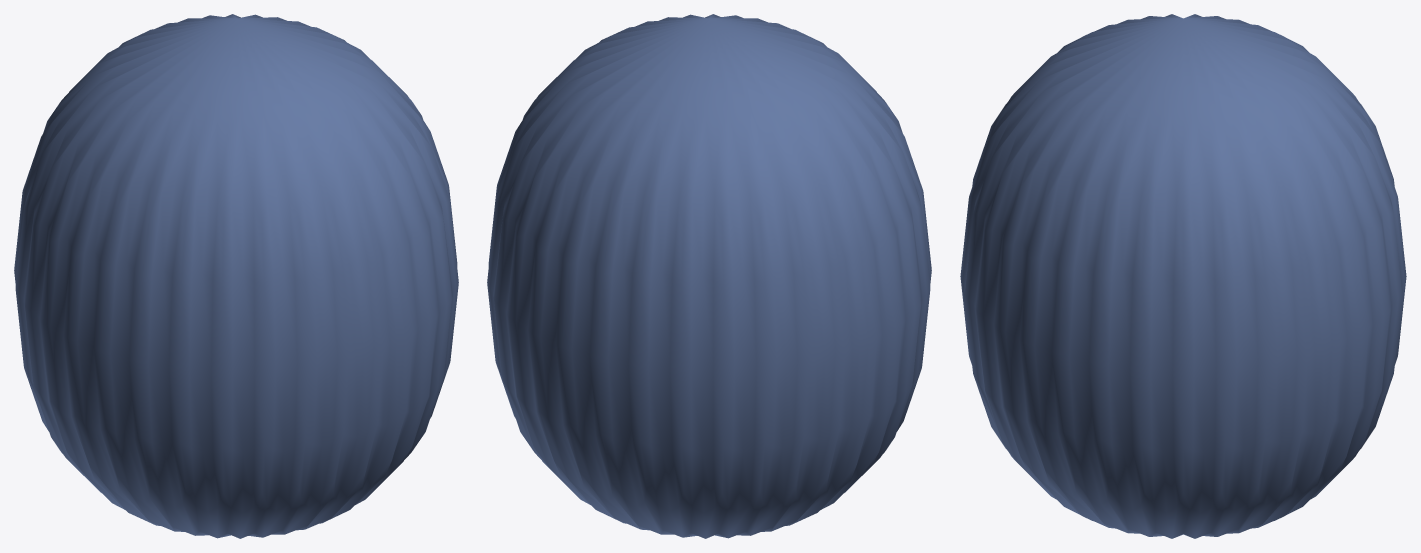
Rendered from outfit_sailor.glb.
3 views of the same model, side by side, from view 1: azimuth 30°, elevation 25°; view 2: azimuth 150°, elevation 25°; view 3: azimuth 270°, elevation 25° (orthographic).
Visible parts, largest first — view 1: Cylinder; view 2: Cylinder; view 3: Cylinder.
Boxes of the visible parts, box(x1,y1,x2,y2) form: Cylinder: box(14, 14, 458, 538); Cylinder: box(487, 14, 931, 538); Cylinder: box(960, 14, 1406, 538).
Size of the model in its own units: 0.4141 by 0.5285 by 0.4141.
